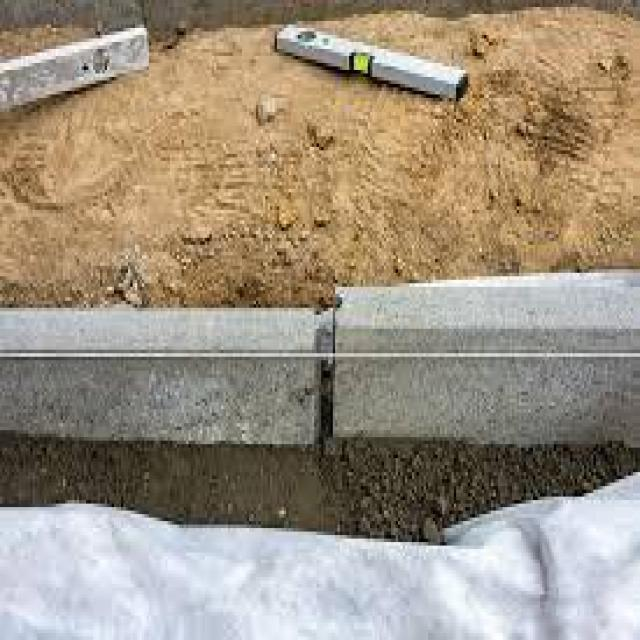curb: (336, 290, 640, 438), (9, 307, 318, 450)
